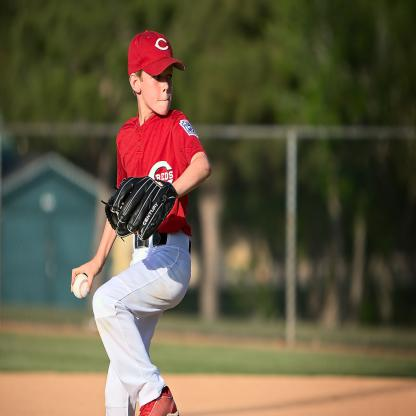Ball: (72, 272, 90, 300)
